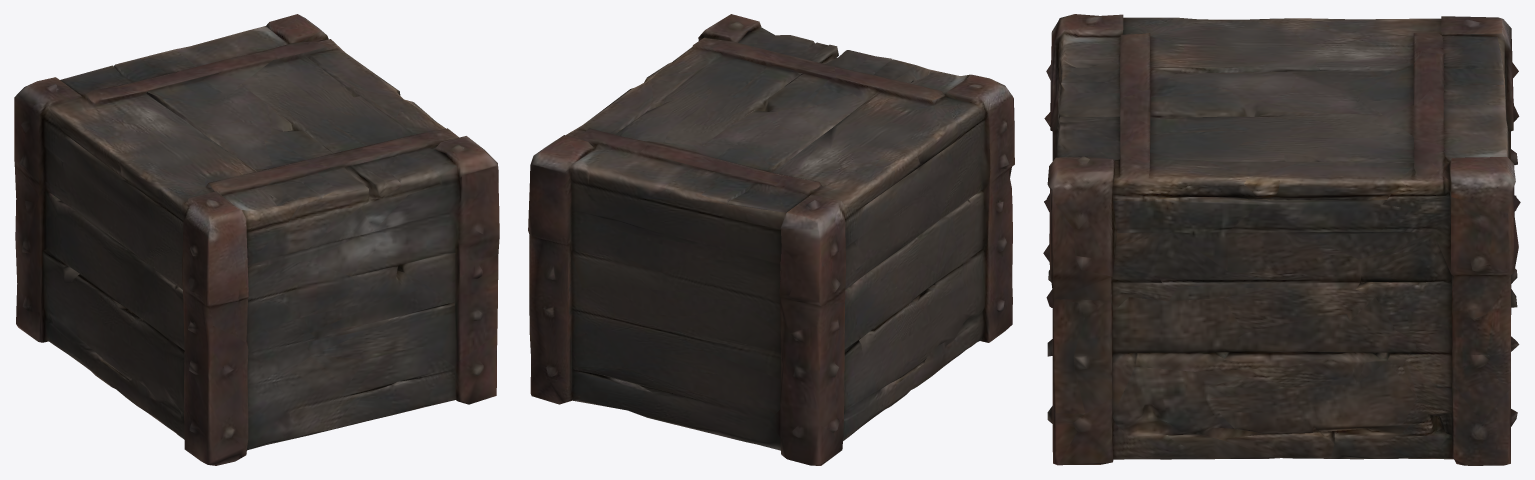
File: mine_crate.glb
3 renders of one model, left to right at view 1: azimuth 30°, elevation 25°; view 2: azimuth 150°, elevation 25°; view 3: azimuth 270°, elevation 25°, orthographic. The views are drawn at different scales.
Visible parts, largest first — view 1: MineCrate; view 2: MineCrate; view 3: MineCrate.
Part boxes in pixels (x1,y1,x2,y2): MineCrate: (14,14,499,465); MineCrate: (528,14,1014,465); MineCrate: (1043,14,1520,465).
Bounding box in the file's own units: 0.8 × 0.6334 × 0.9196.
Materials: 1 (1 with a texture image).
